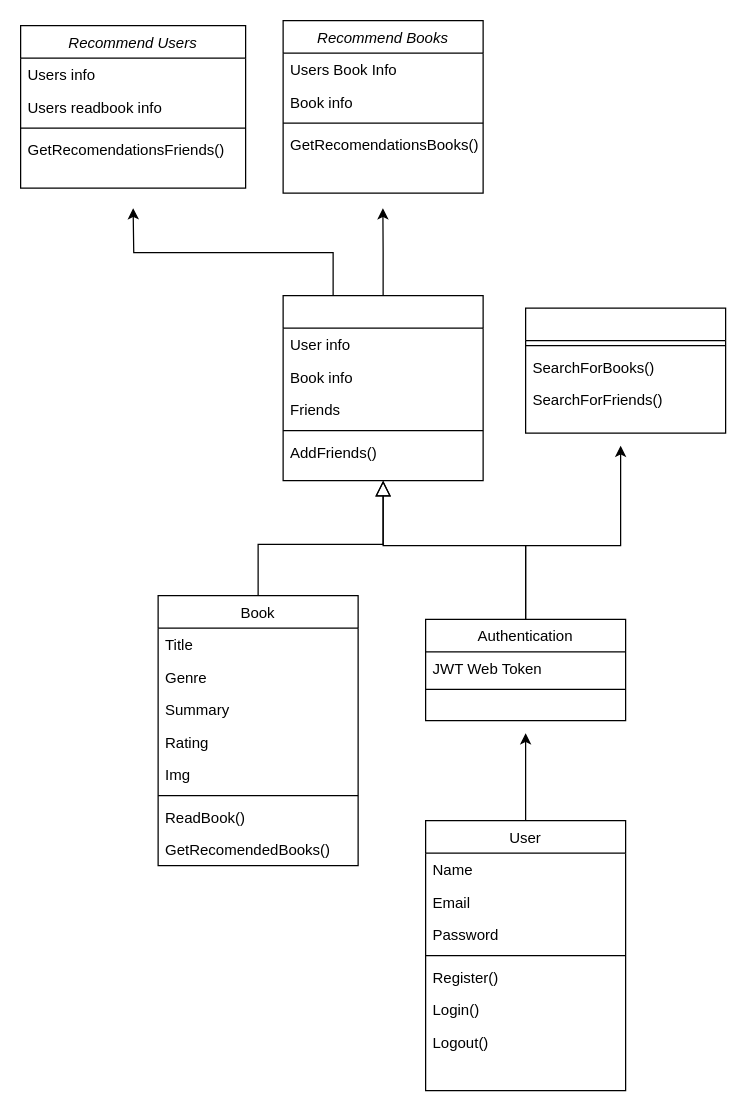
This 746x1111 diagram has some shape labels left out. The box of each missing label's shape, as (x1, y1, x2, y2) in pixels:
Profile: (282, 294, 483, 481)
SearchBar: (524, 307, 726, 433)
